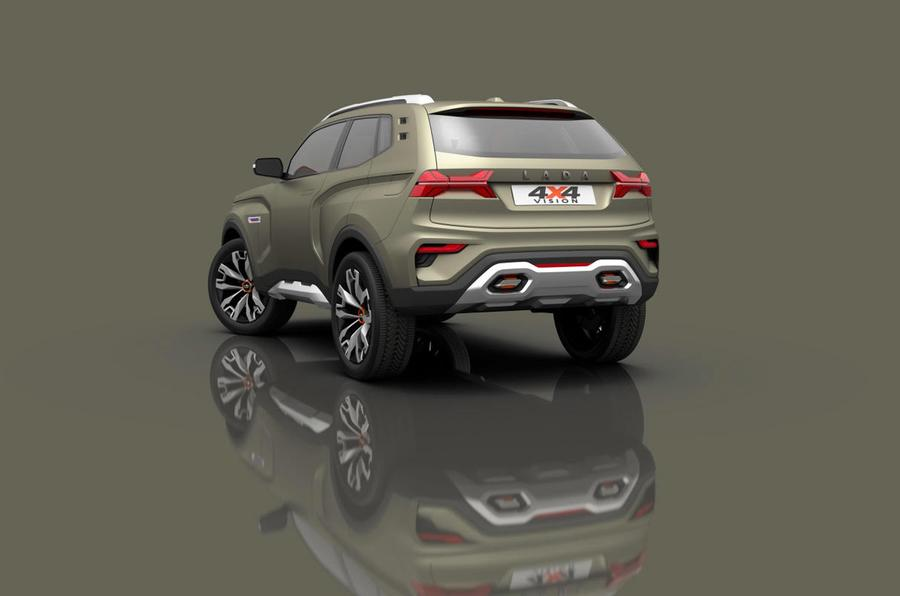Camioneta: (178, 87, 711, 374)
